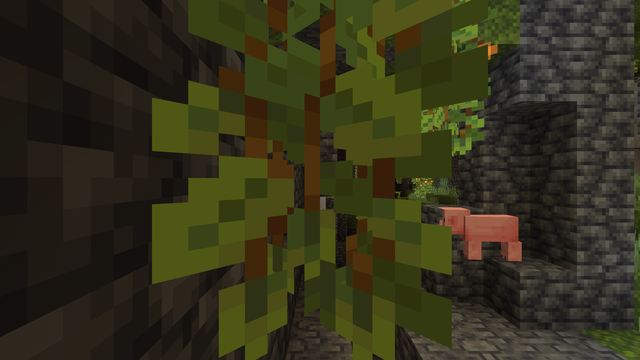cochons: (461, 212, 520, 262)
